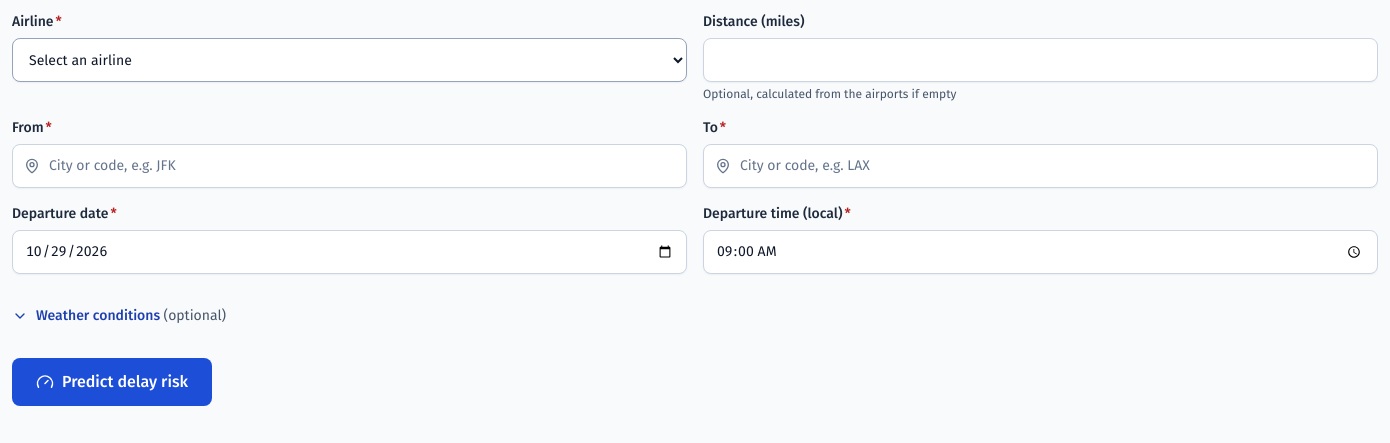
<PredictionForm> › shows errors and does not submit an incomplete form
Click the button "Predict delay risk" at x=112, y=382, box [12,358,212,406]
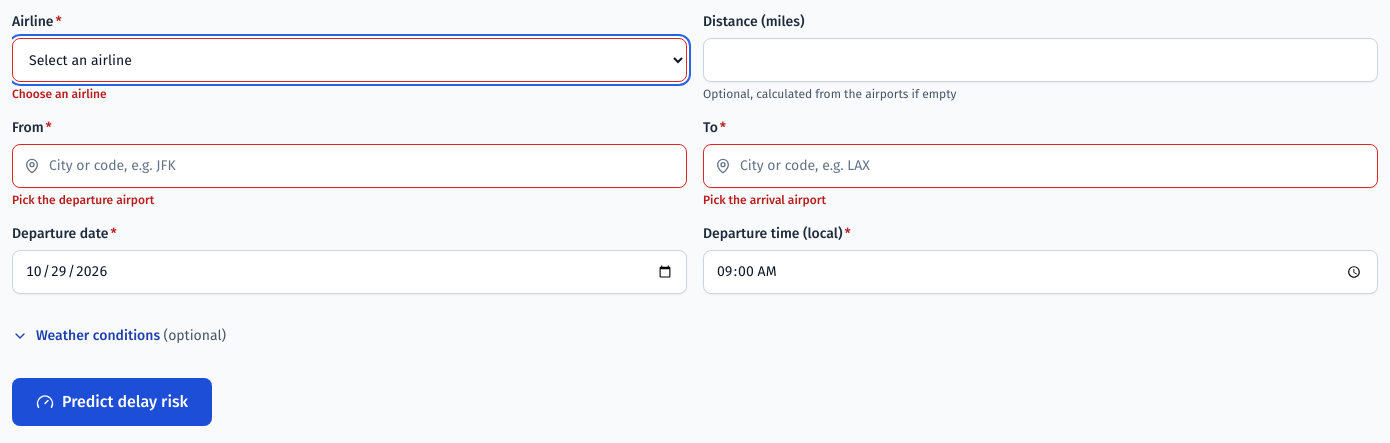
expect the text "Choose an airline" is shown: met, box [12,87,107,101]
expect the text "Pick the departure airport" is shown: met, box [12,193,154,207]
